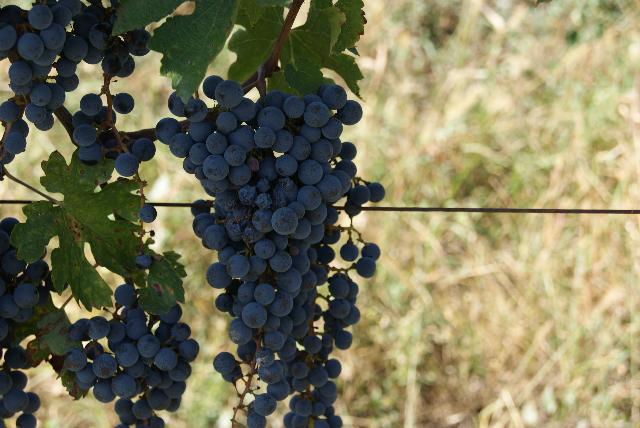grapes: (156, 65, 385, 428), (54, 284, 199, 428), (0, 0, 116, 130), (72, 21, 155, 178), (0, 218, 51, 428)
